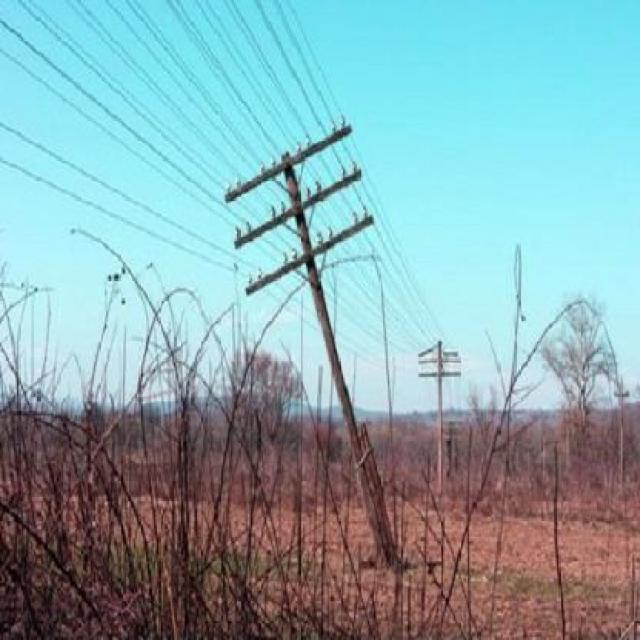pole: (228, 106, 398, 566), (412, 335, 465, 491)
